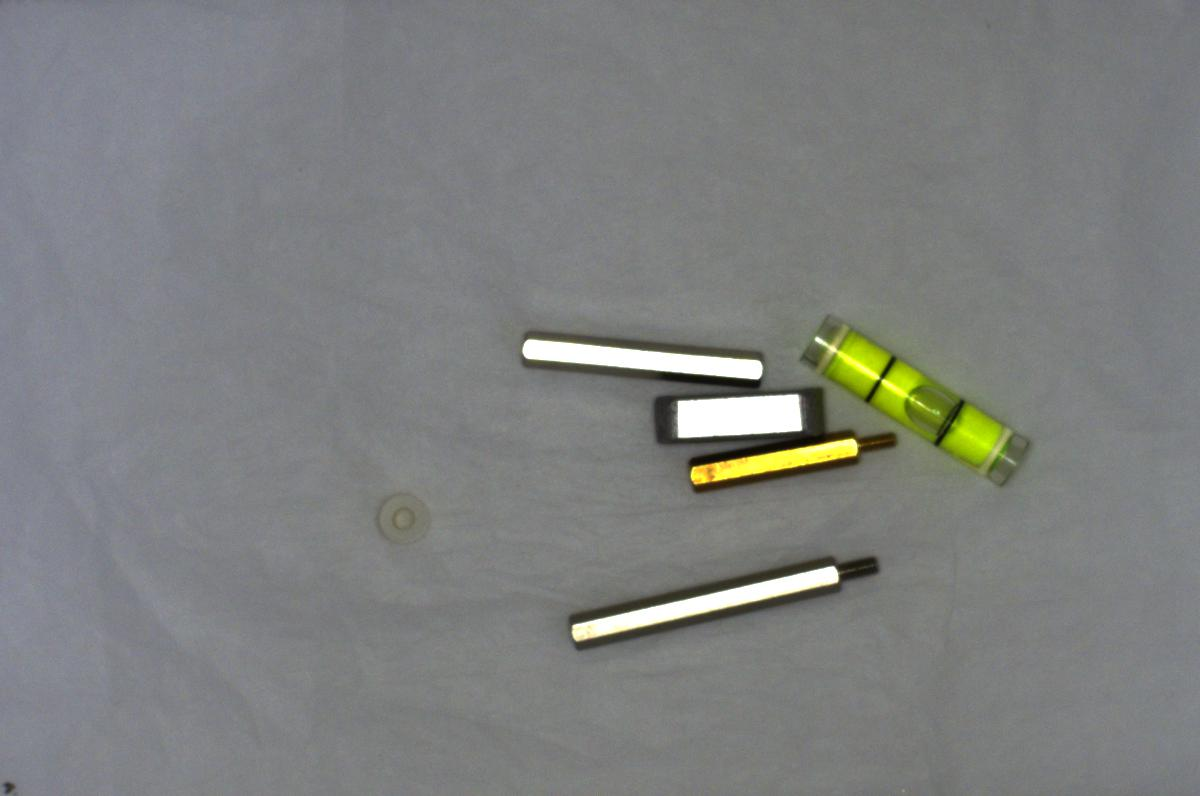Double hexagonal column: (505, 324, 780, 391)
Hexagon pillar: (680, 419, 906, 496)
Hexagonal steel column: (556, 544, 887, 658)
Horizontal bubble: (791, 306, 1037, 492)
Keybar: (646, 381, 835, 445)
Plastic cushion pillar: (371, 483, 433, 550)
